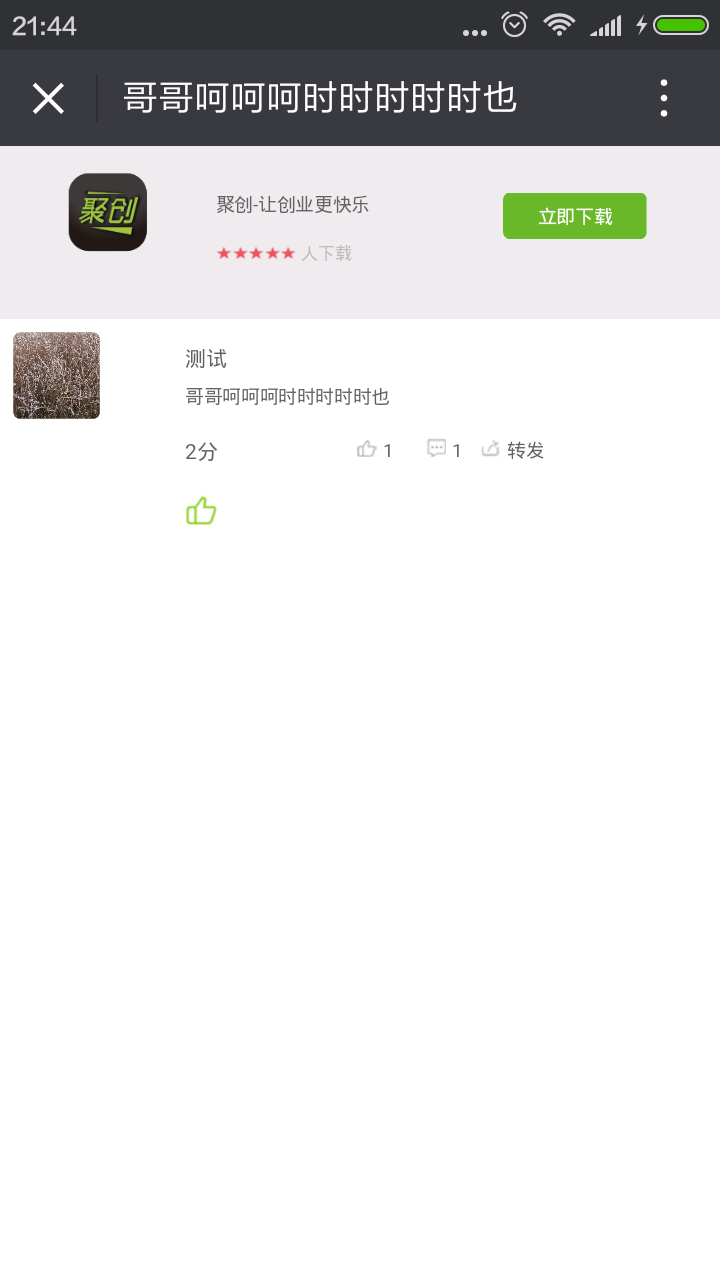button: (490, 178, 668, 245)
imgbutton: (181, 496, 226, 533)
